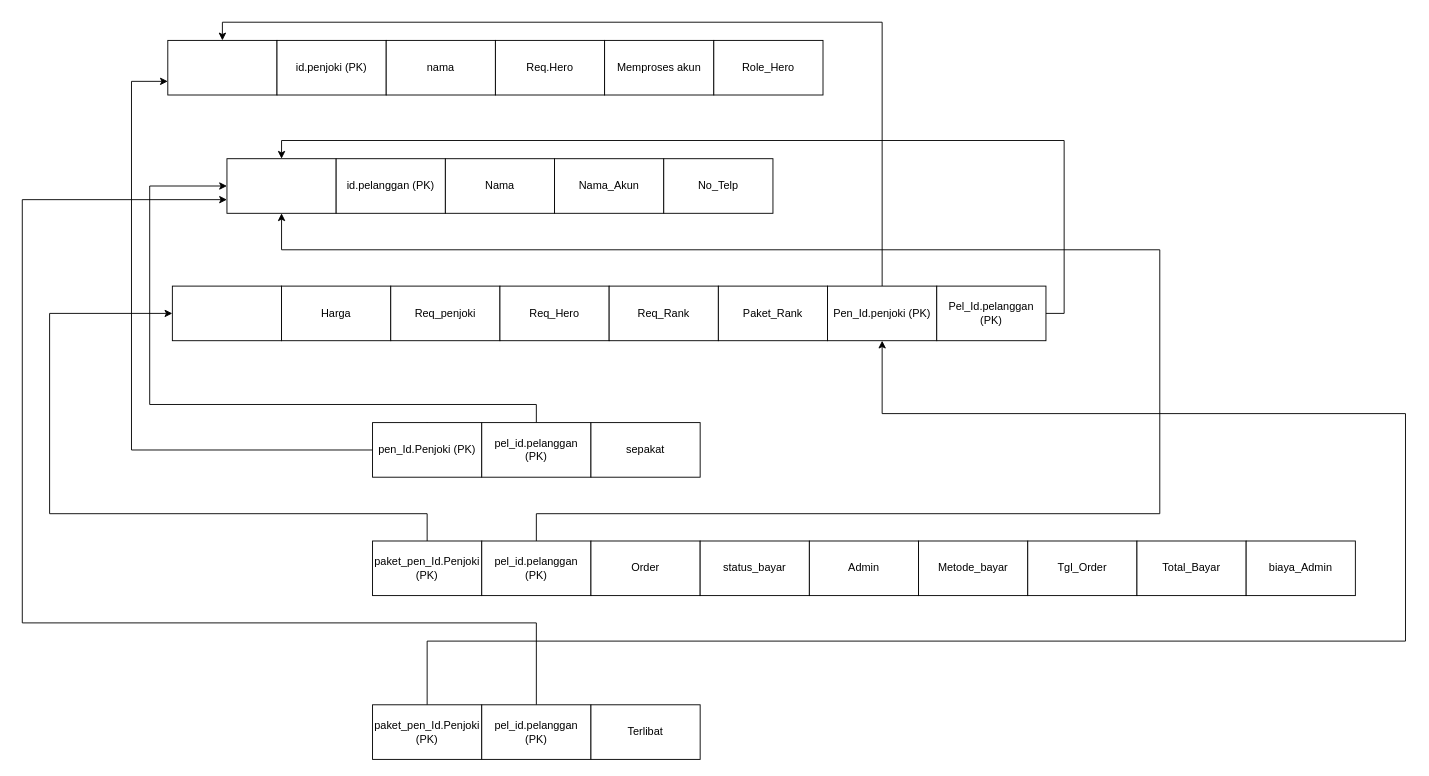
This 1429x776 diagram has some shape labels left out. The shapes that lost their labels are listed below. From the top down, each one's centre as x and y in pixels, then its label:
At pixel 222 67: "penjoki".
At pixel 281 185: "pelanggan".
At pixel 226 313: "Paket Joki".
